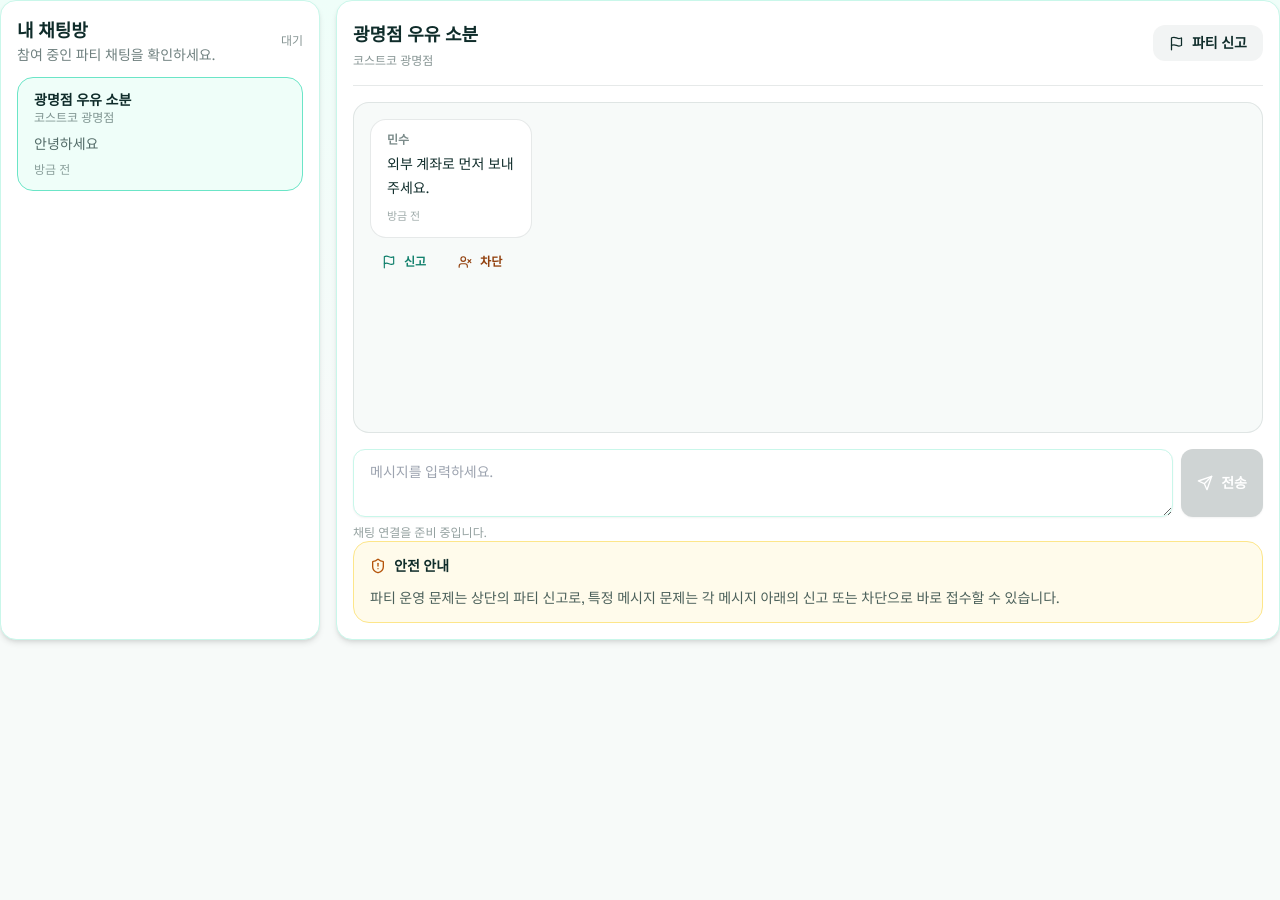
Chat safety › 다른_사용자_메시지에서_차단을_진행한다
expect the text "외부 계좌로 먼저 보내주세요." is shown: met, box [387,152,515,200]
Step 1. Click the button with aria-label "민수님 메시지 차단" → (480, 262), box [446,246,514,278]
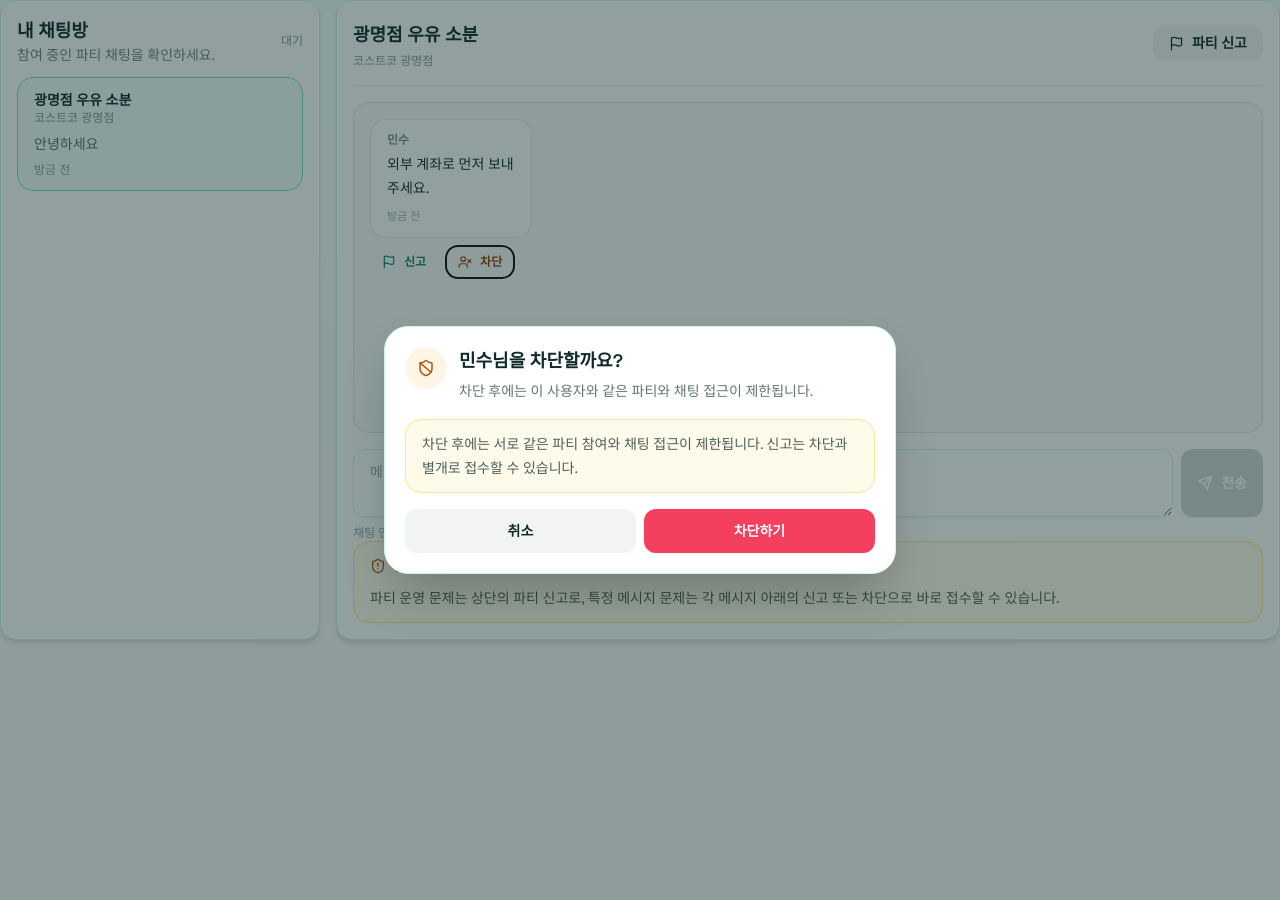
Step 2. Click the button "차단하기" → (760, 531), box [644,509,875,553]
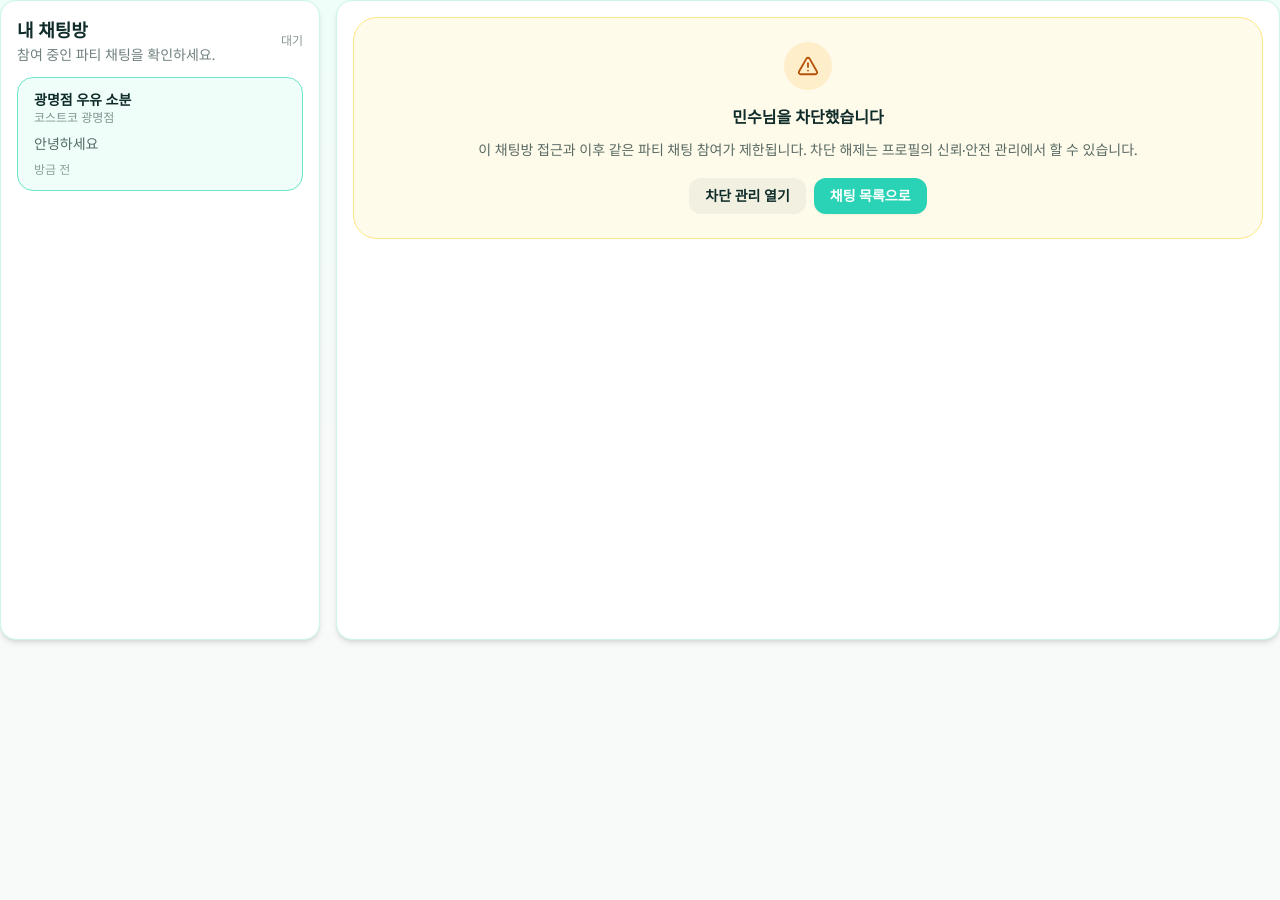
expect the text "민수님을 차단했습니다" is shown: met, box [732,107,884,128]
expect the button "채팅 목록으로" is shown: met, box [814,178,927,214]
